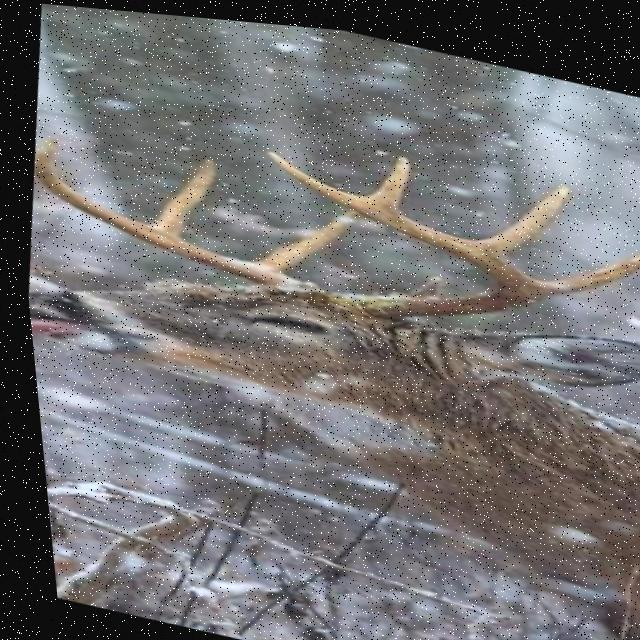L-F: (262, 145, 542, 315)
L-G1: (401, 266, 439, 289)
L-G2: (531, 240, 640, 287)
L-G3: (462, 171, 571, 249)
L-G4: (354, 147, 410, 208)
R-G1: (241, 202, 356, 271)
R-G2: (143, 153, 213, 235)
R-G3: (30, 135, 315, 283)
